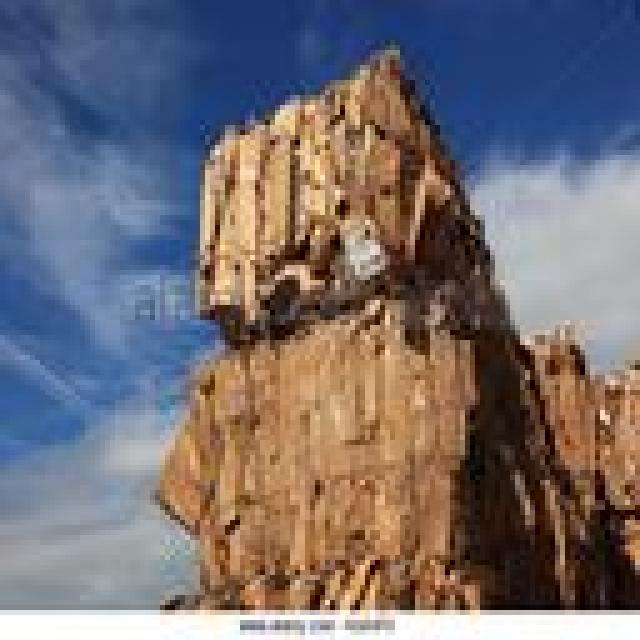cardboard: (155, 285, 525, 560), (195, 45, 480, 320), (520, 320, 590, 495), (160, 570, 500, 605), (505, 475, 595, 600), (595, 355, 635, 500), (600, 495, 635, 605)
